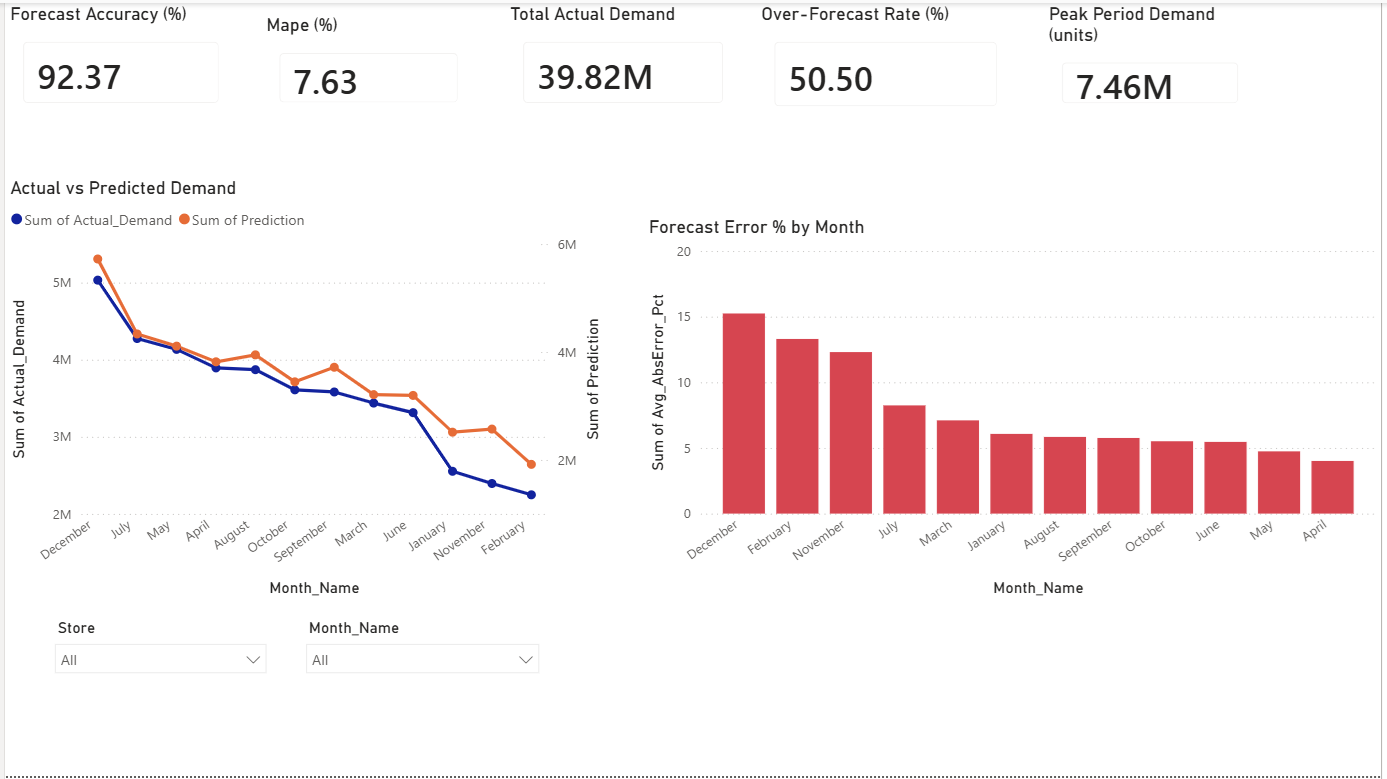

The dashboard page shown, as its layout file describes it:
{"tool":"powerbi","page":{"name":"Performance Overview","canvas":[1280,720],"ordinal":0},"visuals":[{"type":"lineChart","title":"Actual vs Predicted Demand","fields":{"Y2":["Sum(Actual_vs_Prediction.Prediction)"],"Category":["Actual_vs_Prediction.Month_Name"],"Y":["Sum(Actual_vs_Prediction.Actual_Demand)"]},"box":[0,161.6,559.3,395.3],"z":0},{"type":"clusteredColumnChart","title":"Forecast Error % by Month","fields":{"Y":["Sum(Error_Trends.Avg_AbsError_Pct)"],"Category":["Error_Trends.Month_Name"]},"box":[594.2,197.7,686,359.3],"z":1000},{"type":"cardVisual","title":"Forecast Accuracy (%)","fields":{"Data":["Sum(KPI_Summary.Value)"]},"box":[0,0,216.8,111.1],"z":2000},{"type":"cardVisual","title":"Mape (%)","fields":{"Data":["Sum(KPI_Summary.Value)"]},"box":[238.8,11,200.3,100.2],"z":3000},{"type":"cardVisual","title":"Total Actual Demand","fields":{"Data":["Sum(KPI_Summary.Value)"]},"box":[465.2,0,220.9,111.1],"z":4000},{"type":"cardVisual","title":"Over-Forecast Rate (%)","fields":{"Data":["Sum(KPI_Summary.Value)"]},"box":[698.5,0,241.5,113.9],"z":5000},{"type":"cardVisual","title":"Peak Period Demand (units)","fields":{"Data":["Sum(KPI_Summary.Value)"]},"box":[966,0,199,111.1],"z":6000},{"type":"slicer","fields":{"Values":["Fact_Predictions.Store"]},"box":[36,567.4,217.4,152.3],"z":7000},{"type":"slicer","fields":{"Values":["Fact_Predictions.Month_Name"]},"box":[270,567.5,237.5,152.5],"z":8000}]}

Visuals, with their boxes in screenshot pixels (x1, y1, x2, y2), scaled from the page's 1280x720 canvas onto the 1387x779 screenshot:
"Actual vs Predicted Demand" lineChart: region(0, 175, 606, 603)
"Forecast Error % by Month" clusteredColumnChart: region(644, 214, 1386, 603)
"Forecast Accuracy (%)" cardVisual: region(0, 0, 235, 120)
"Mape (%)" cardVisual: region(259, 12, 476, 120)
"Total Actual Demand" cardVisual: region(504, 0, 743, 120)
"Over-Forecast Rate (%)" cardVisual: region(757, 0, 1019, 123)
"Peak Period Demand (units)" cardVisual: region(1047, 0, 1262, 120)
slicer - Fact_Predictions.Store: region(39, 614, 275, 778)
slicer - Fact_Predictions.Month_Name: region(293, 614, 550, 778)
